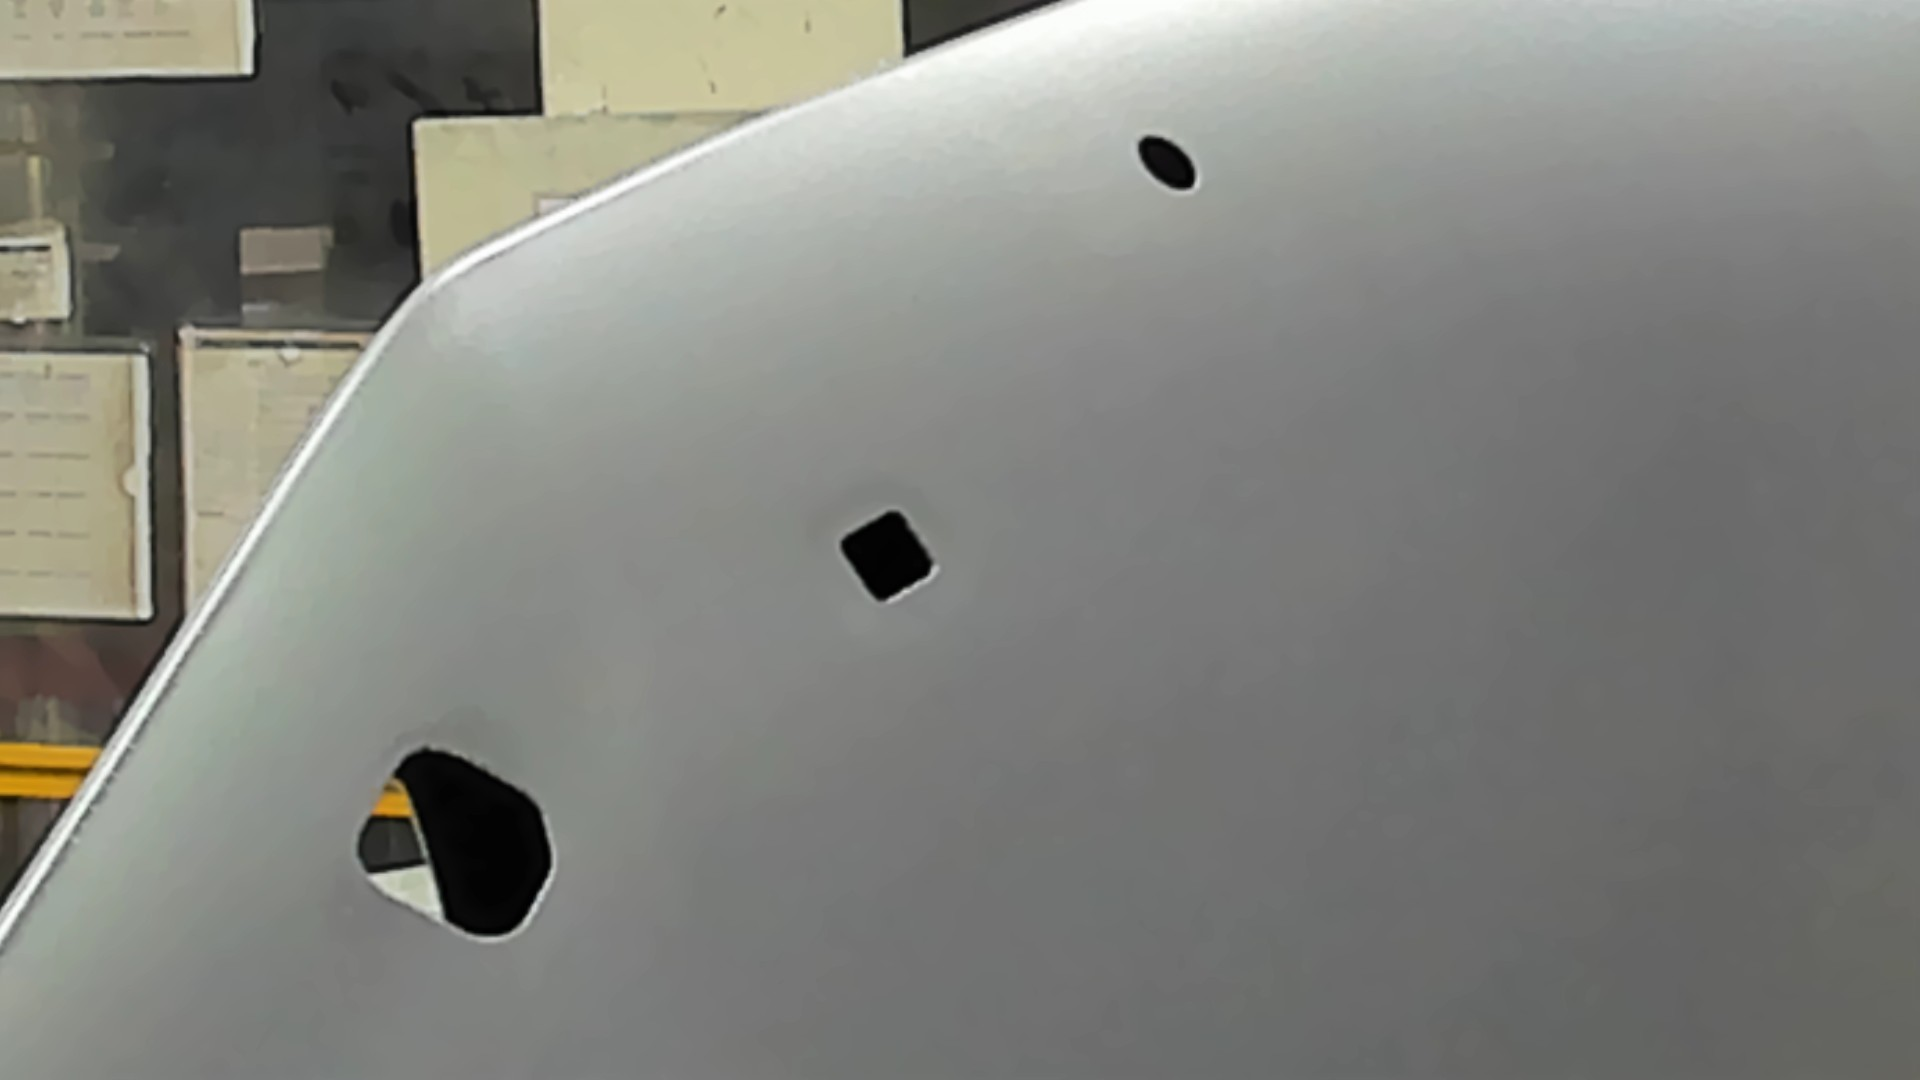chico: (1129, 127, 1204, 196)
grande: (345, 738, 564, 947)
mediano: (833, 502, 948, 615)
